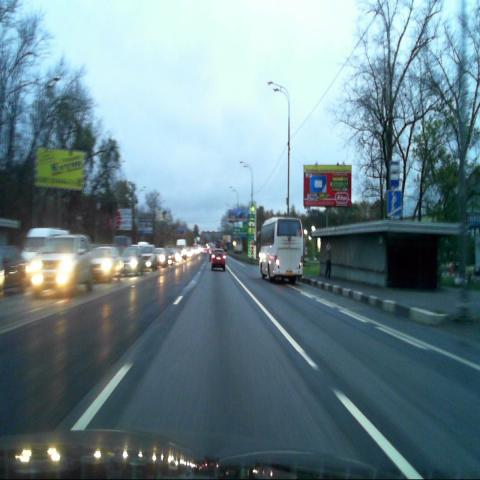6_6: (387, 191, 402, 217)
